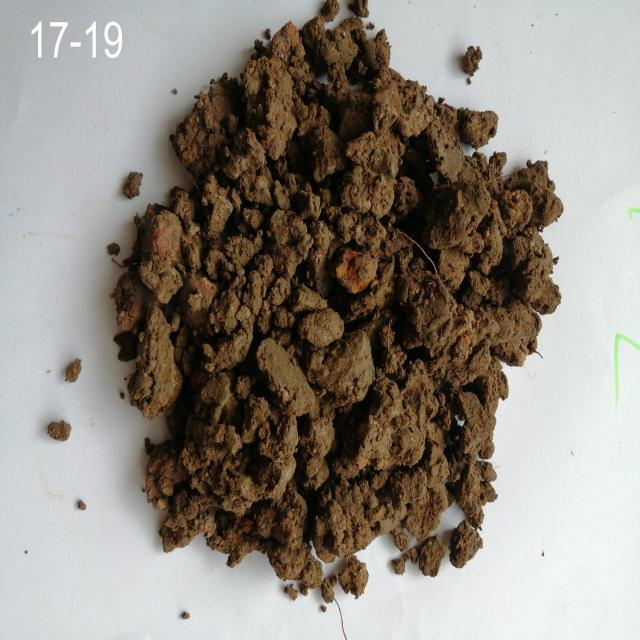soil: (215, 117, 444, 492)
